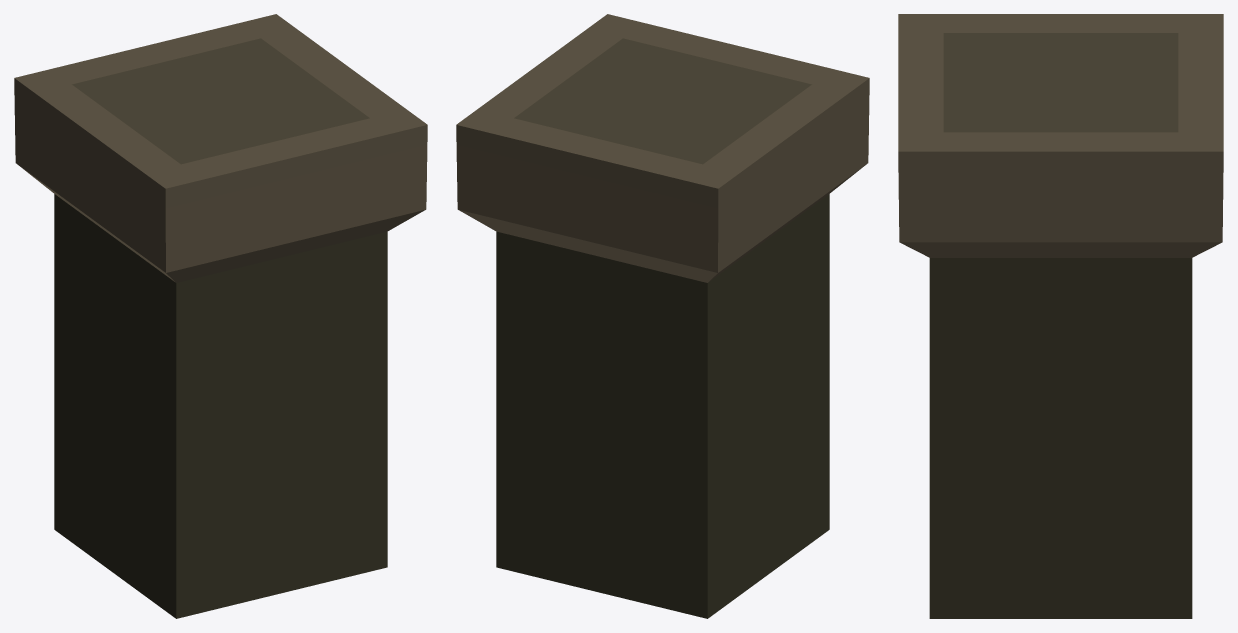
File: Chimney_2_D_1.glb
The picture shows the model from 3 angles, left to right: view 1: azimuth 30°, elevation 25°; view 2: azimuth 150°, elevation 25°; view 3: azimuth 270°, elevation 25°; orthographic projection. The views are drawn at different scales.
Parts seen in each view (by area): view 1: Chimney_2_D_1; view 2: Chimney_2_D_1; view 3: Chimney_2_D_1.
Part boxes in pixels (box(x1,y1,x2,y2)): Chimney_2_D_1: box(14, 14, 427, 618); Chimney_2_D_1: box(456, 14, 869, 618); Chimney_2_D_1: box(898, 14, 1223, 618).
Bounding box in the file's own units: 0.6329 × 1.03 × 0.6329.
Materials: 1 (1 with a texture image).
